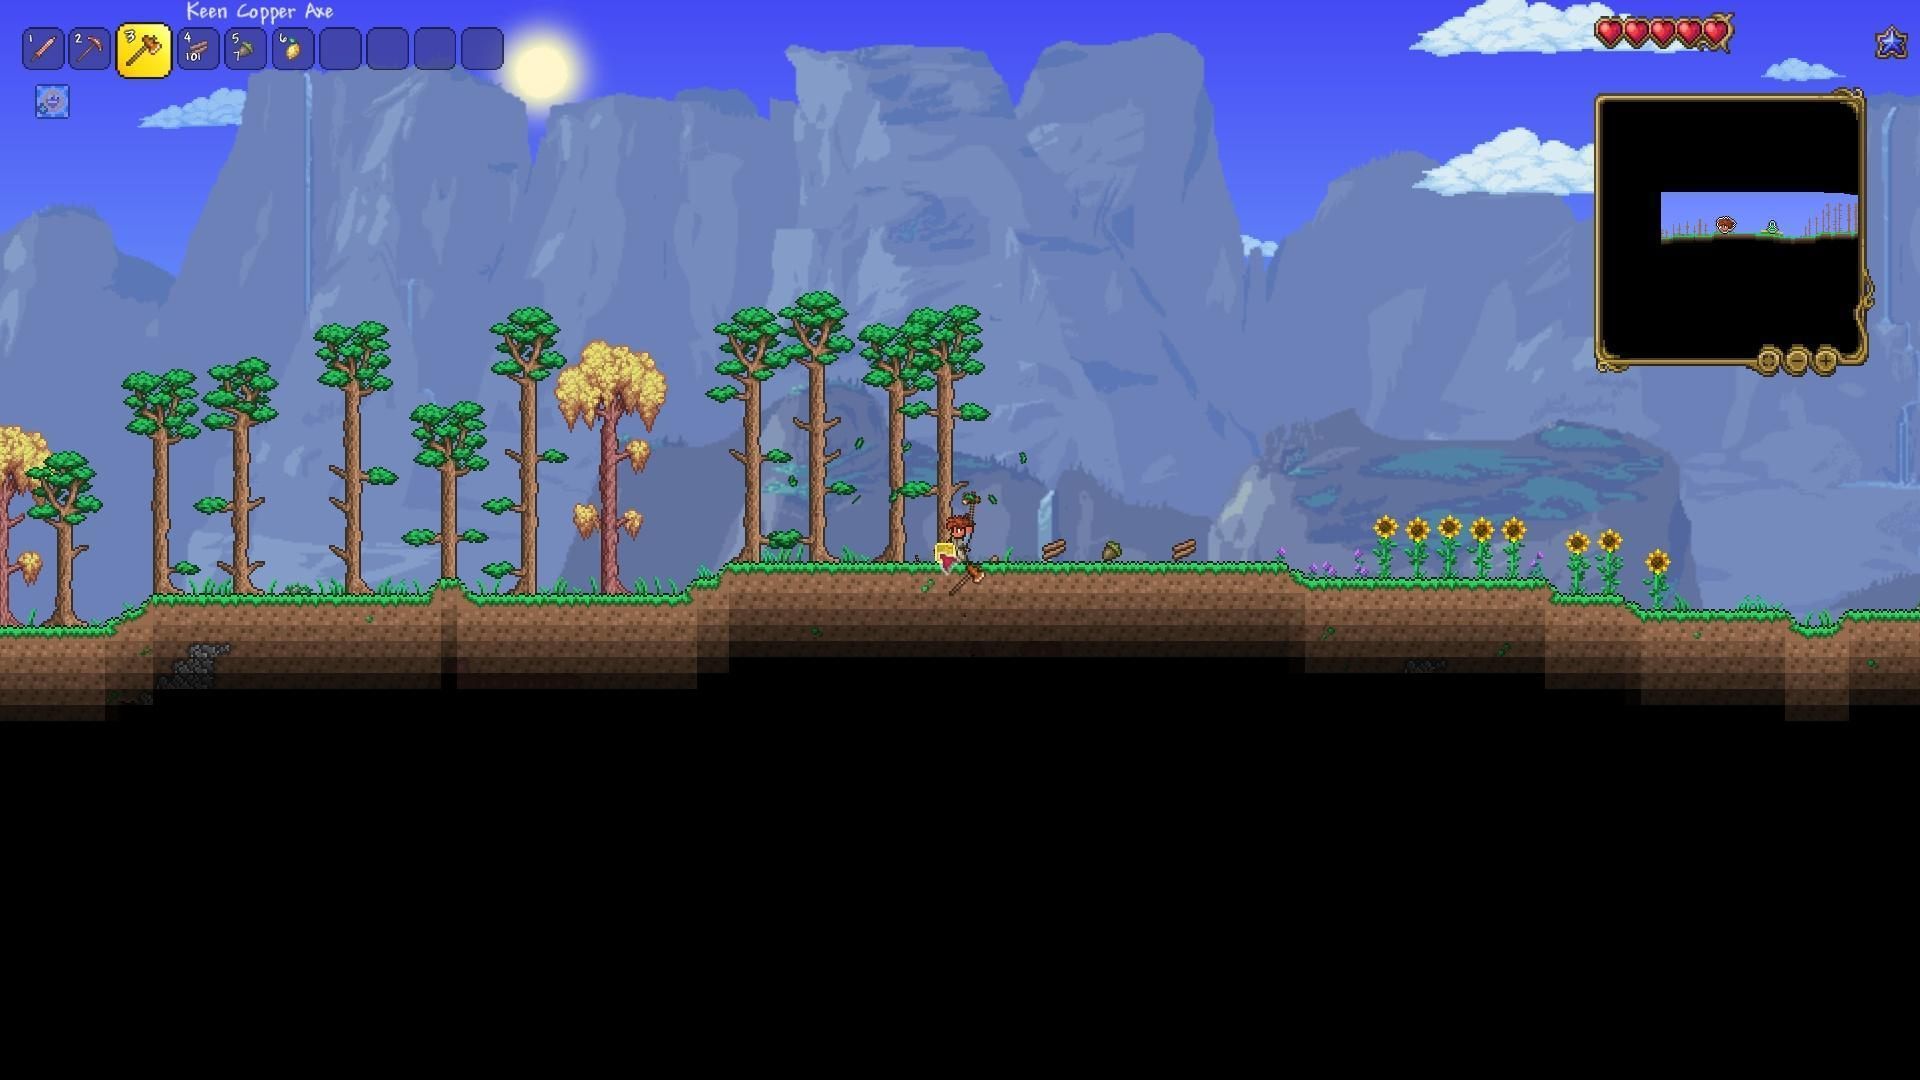wood: (1039, 534, 1071, 564), (182, 30, 214, 61), (1167, 534, 1199, 564)
